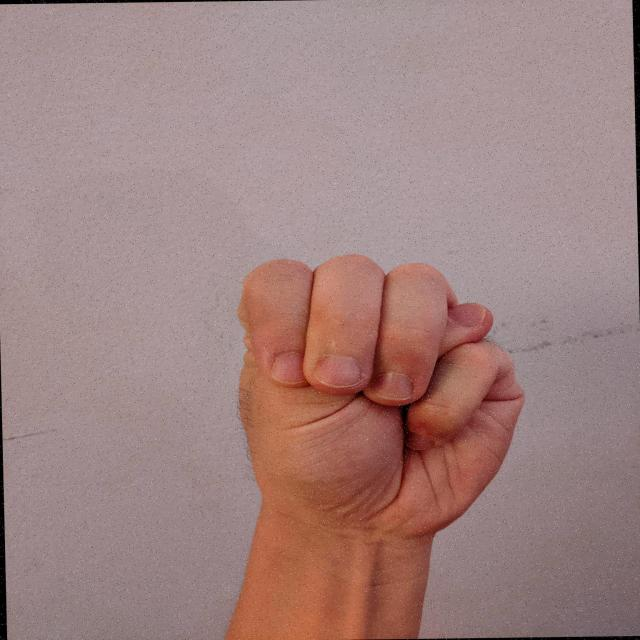M: (223, 247, 539, 543)
